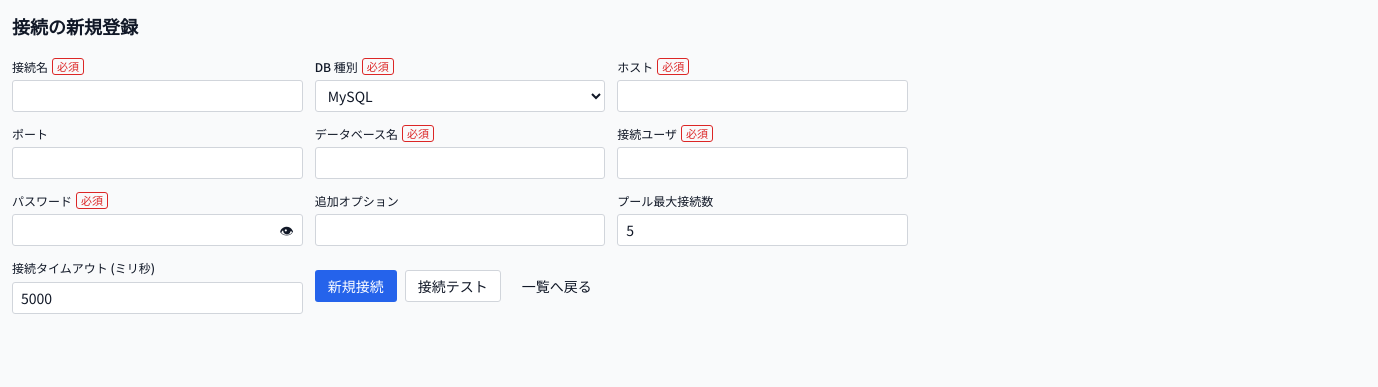
Test: ConnectionEditPage › 接続テストはフォームの現在値で実行し成功を表示する
The width and height of the screenshot is (1378, 387).
In the field labelled "接続名 必須": (157, 96) [12,80,303,112], type "test-conn"
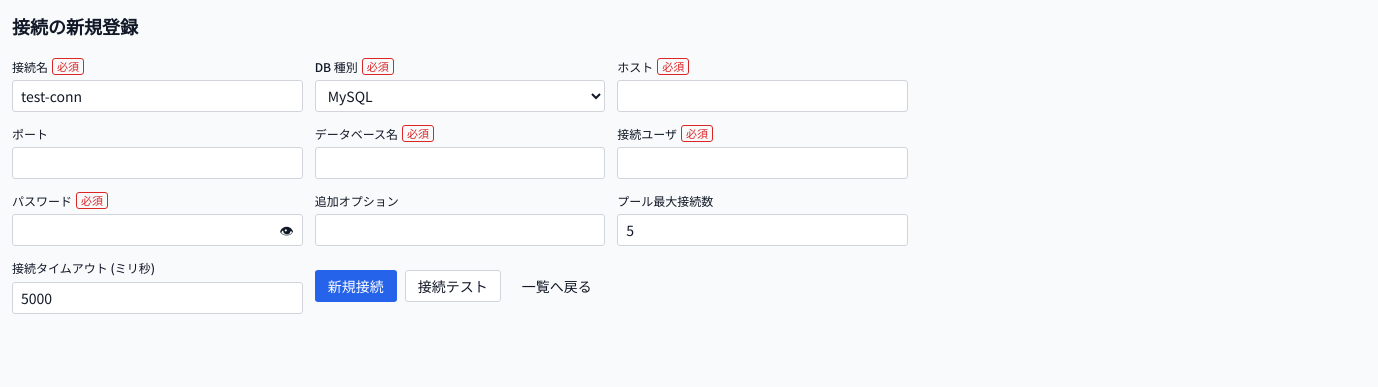
In the field labelled "ホスト 必須": (763, 96) [617,80,908,112], type "localhost"
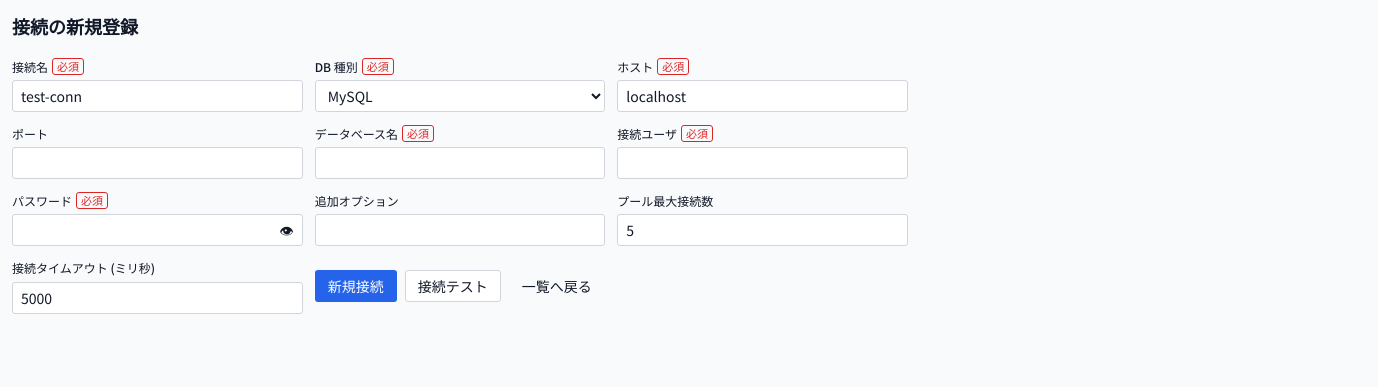
In the field labelled "データベース名 必須": (460, 163) [315,147,605,179], type "testdb"
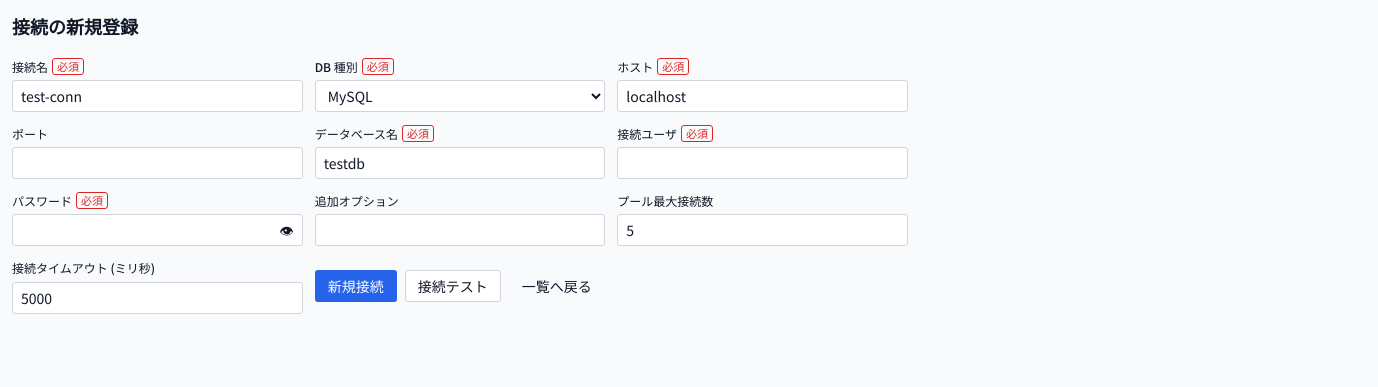
In the field labelled "接続ユーザ 必須": (763, 163) [617,147,908,179], type "app"
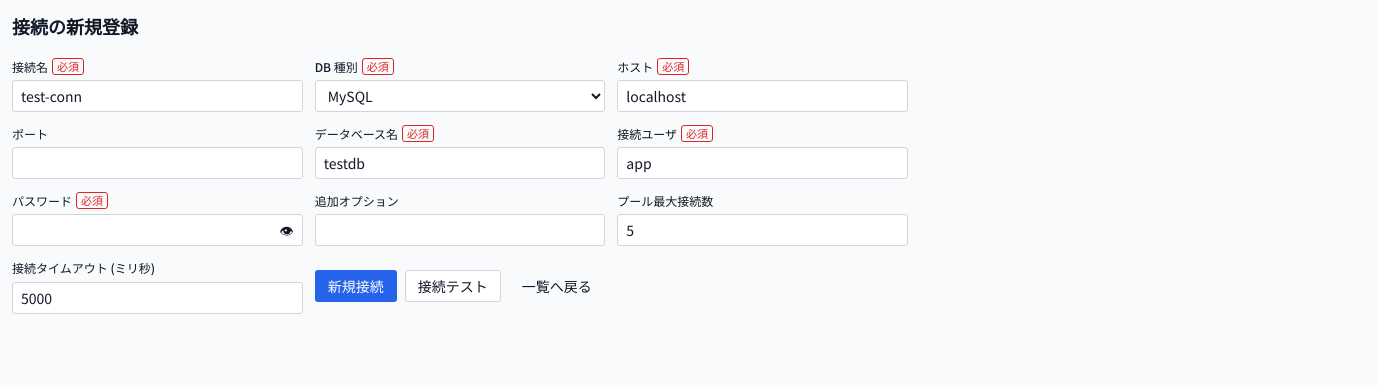
In the password field named "パスワード必須": (157, 230) [12,214,303,246], type "secret"
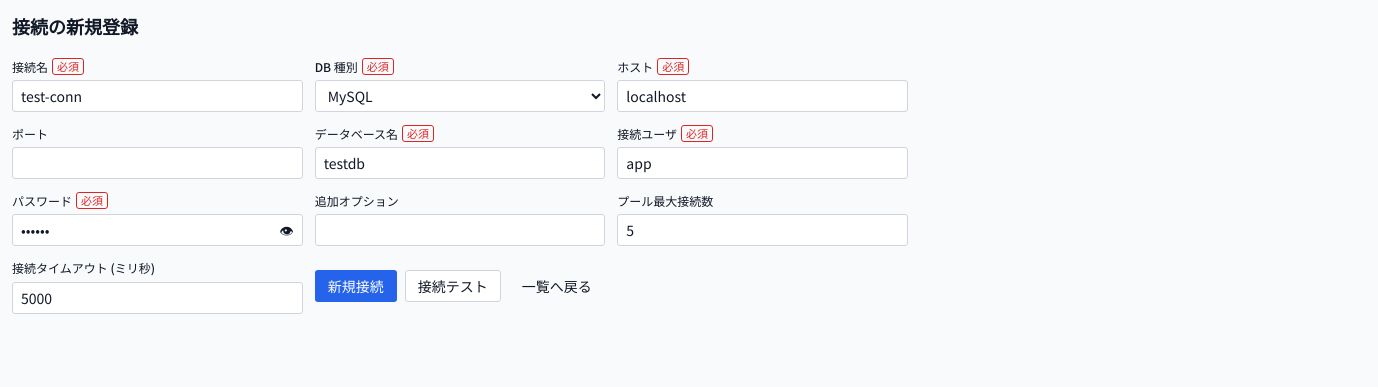
Click the button "接続テスト": (453, 286) [405,270,501,302]
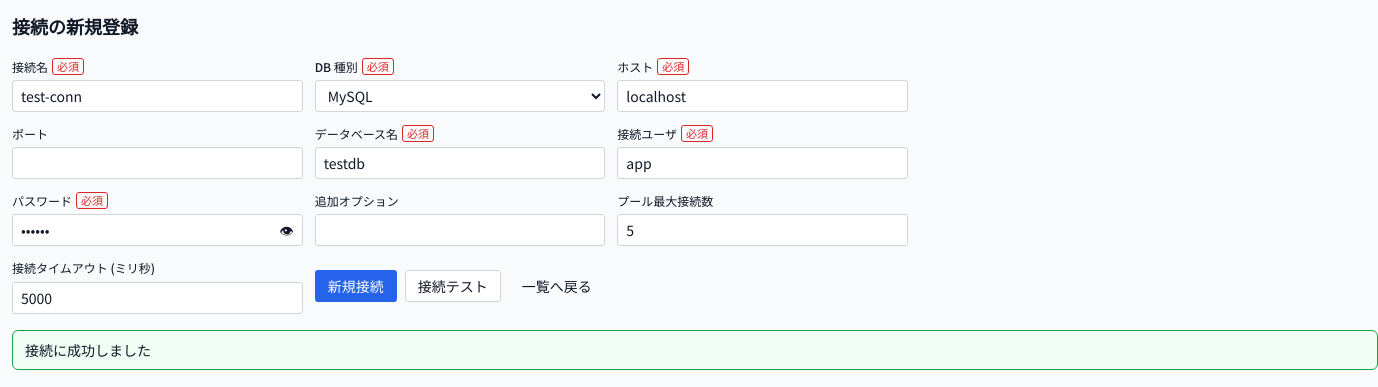
Now the text "接続に成功しました" is shown, box [12,330,1377,370]
